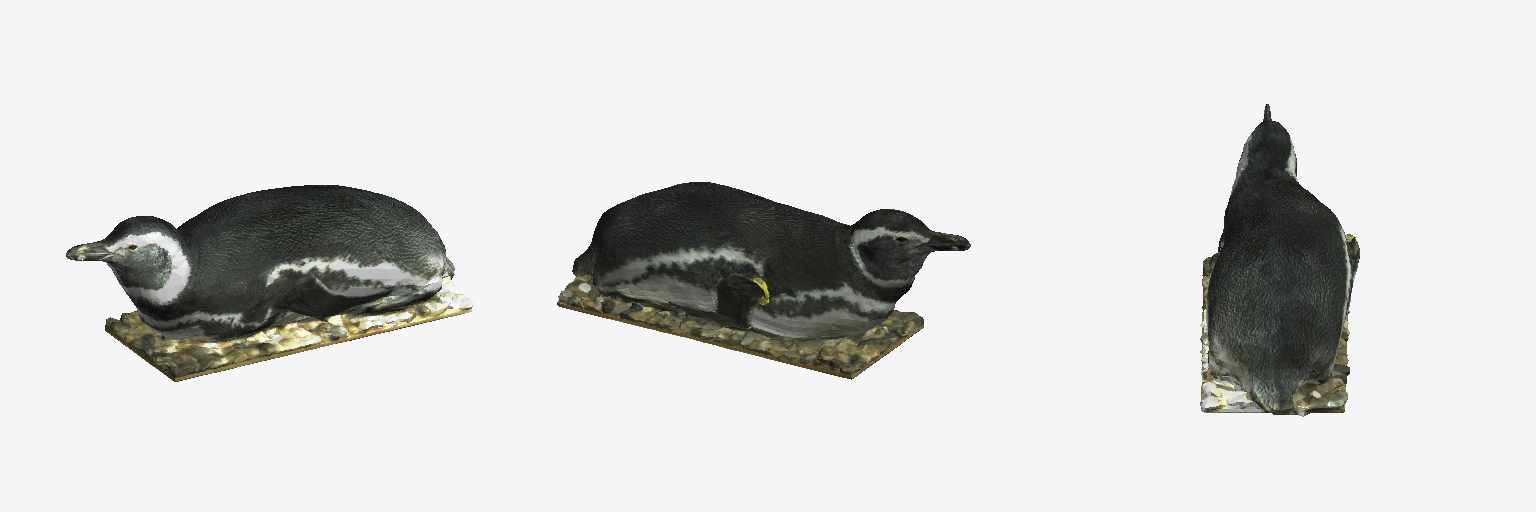
The picture shows the model from 3 angles: view 1: azimuth 30°, elevation 25°; view 2: azimuth 150°, elevation 25°; view 3: azimuth 270°, elevation 25°; orthographic projection.
Parts seen in each view (by area): view 1: polySurface1; view 2: polySurface1; view 3: polySurface1.
Part boxes in pixels (x1,y1,x2,y2): polySurface1: (66, 185, 473, 381); polySurface1: (557, 182, 970, 379); polySurface1: (1200, 104, 1359, 416).
Size of the model in its own units: 505 by 173 by 179.
Materials: 1 (1 with a texture image).